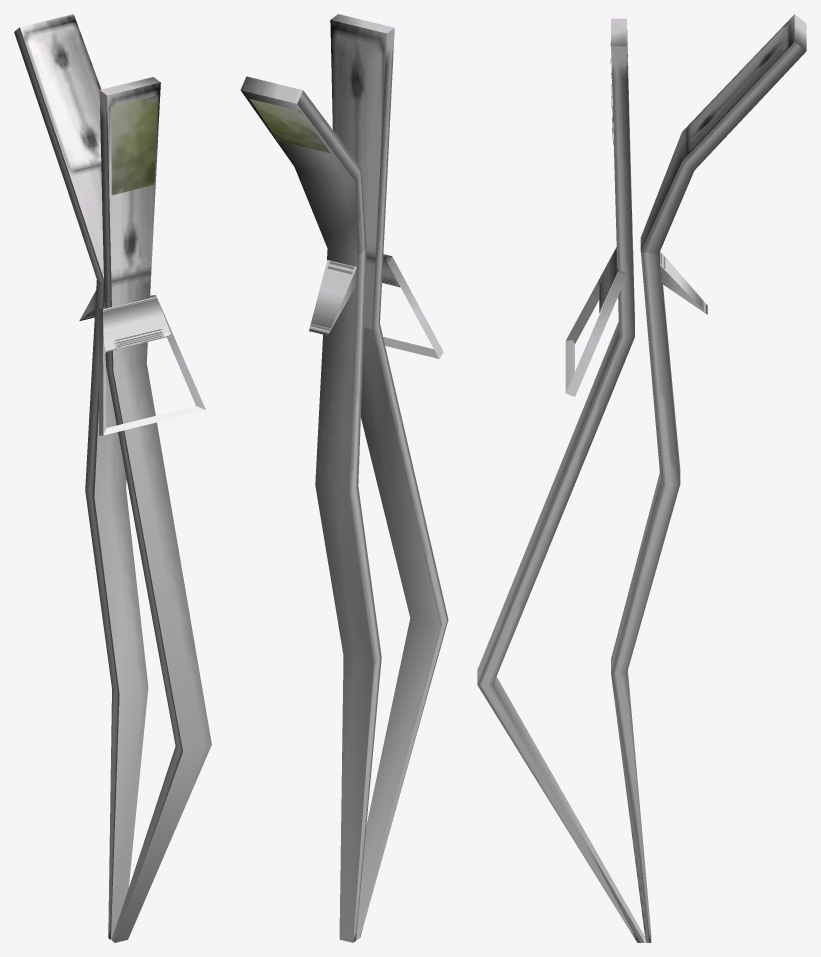
File: thm_prp_meds_extraction_device_l1.fbx
The picture shows the model from 3 angles, left to right: view 1: azimuth 30°, elevation 25°; view 2: azimuth 150°, elevation 25°; view 3: azimuth 270°, elevation 25°; orthographic projection. The views are drawn at different scales.
Parts seen in each view (by area): view 1: mesh_node; view 2: mesh_node; view 3: mesh_node.
Boxes of the visible parts, <box> form: mesh_node: <box>14,14,211,942</box>; mesh_node: <box>240,14,448,942</box>; mesh_node: <box>477,14,806,942</box>.
Size of the model in its own units: 0.0441 by 0.3546 by 0.1161.
Materials: 1 (1 with a texture image).
